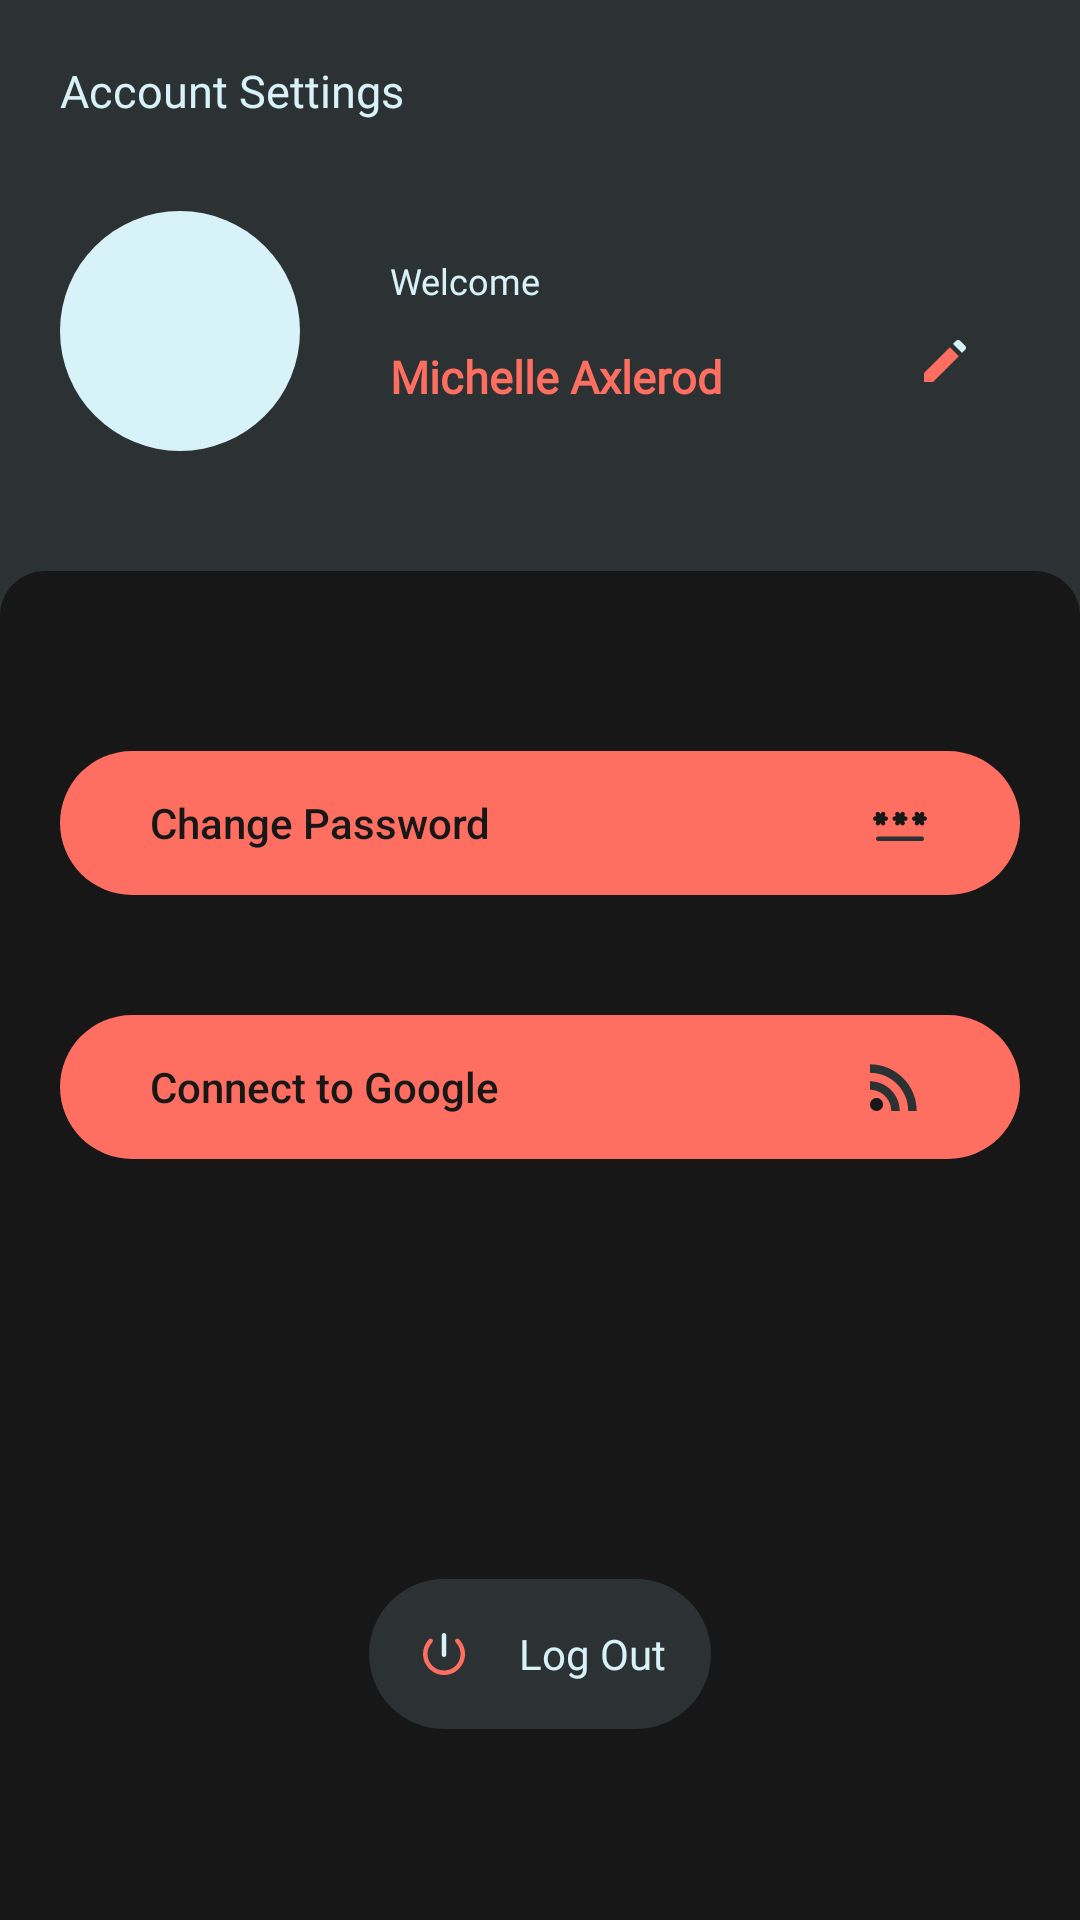

Locate icon controls on the screen. Image size 1080*1920, boxes as (x1, y1, x2, y2).
edit: (924, 340, 966, 382)
